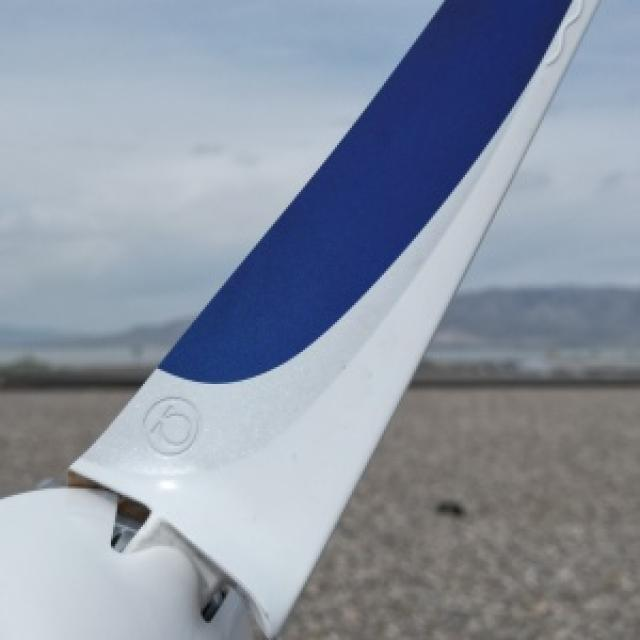healthy: (0, 0, 595, 638)
